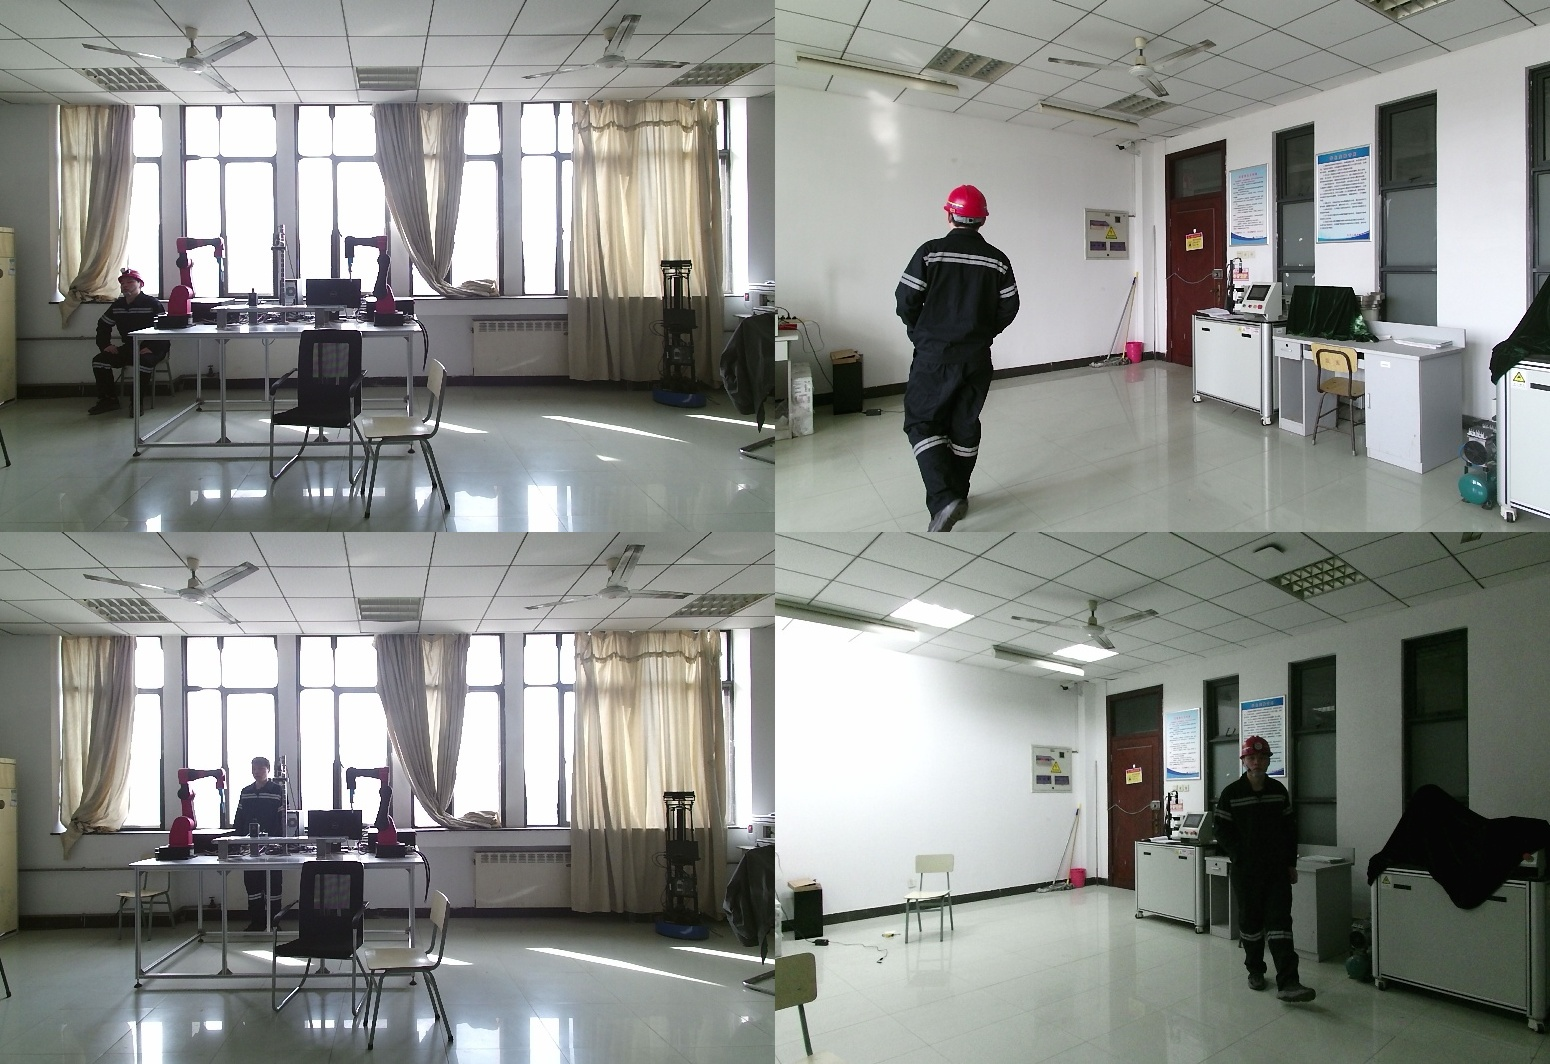person: (888, 182, 1024, 532), (1209, 735, 1320, 997), (80, 270, 179, 415), (233, 758, 288, 941)
